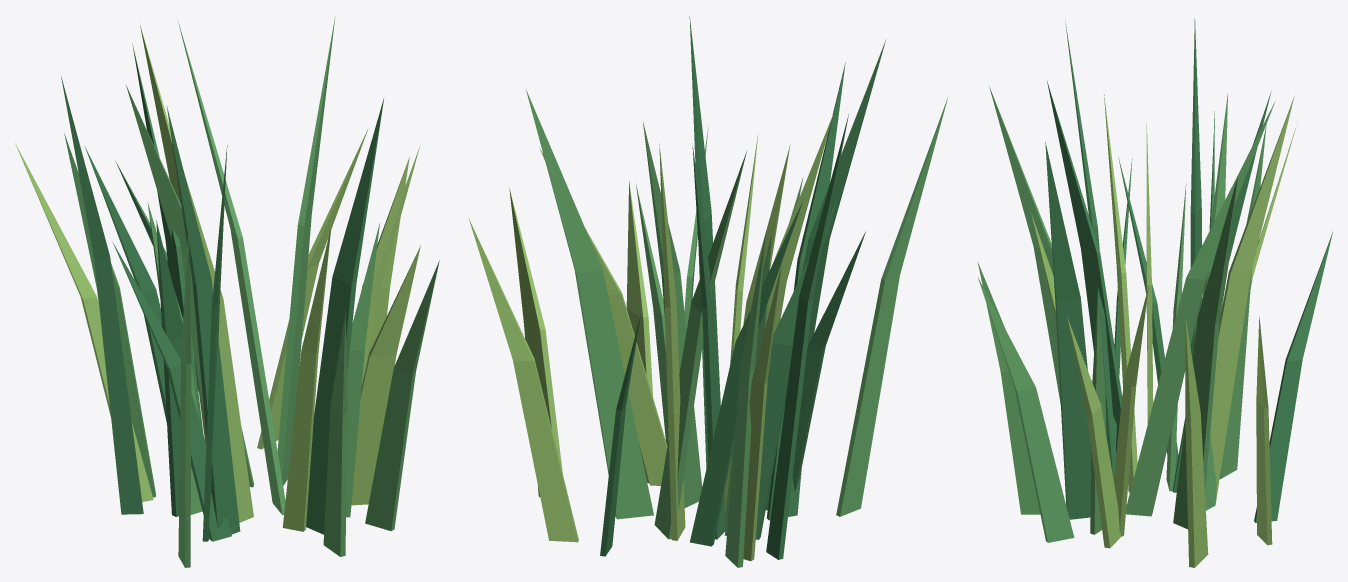
File: grass_tuft_c.glb
The picture shows the model from 3 angles, left to right: view 1: azimuth 30°, elevation 25°; view 2: azimuth 150°, elevation 25°; view 3: azimuth 270°, elevation 25°; orthographic projection. The views are drawn at different scales.
Visible parts, largest first — view 1: Tuft_1.002, Tuft_2.002, Tuft_3.002; view 2: Tuft_2.002, Tuft_1.002, Tuft_3.002; view 3: Tuft_2.002, Tuft_3.002, Tuft_1.002.
Boxes of the visible parts, box(x1,y1,x2,y2) form: Tuft_1.002: box(60, 43, 384, 541); Tuft_2.002: box(64, 16, 439, 567); Tuft_3.002: box(15, 25, 420, 531); Tuft_2.002: box(526, 89, 947, 567); Tuft_1.002: box(600, 16, 886, 559); Tuft_3.002: box(468, 113, 833, 561); Tuft_2.002: box(977, 86, 1275, 542); Tuft_3.002: box(1031, 94, 1296, 567); Tuft_1.002: box(1045, 18, 1332, 522).
Size of the model in its own units: 0.8468 by 1.11 by 0.8351.
